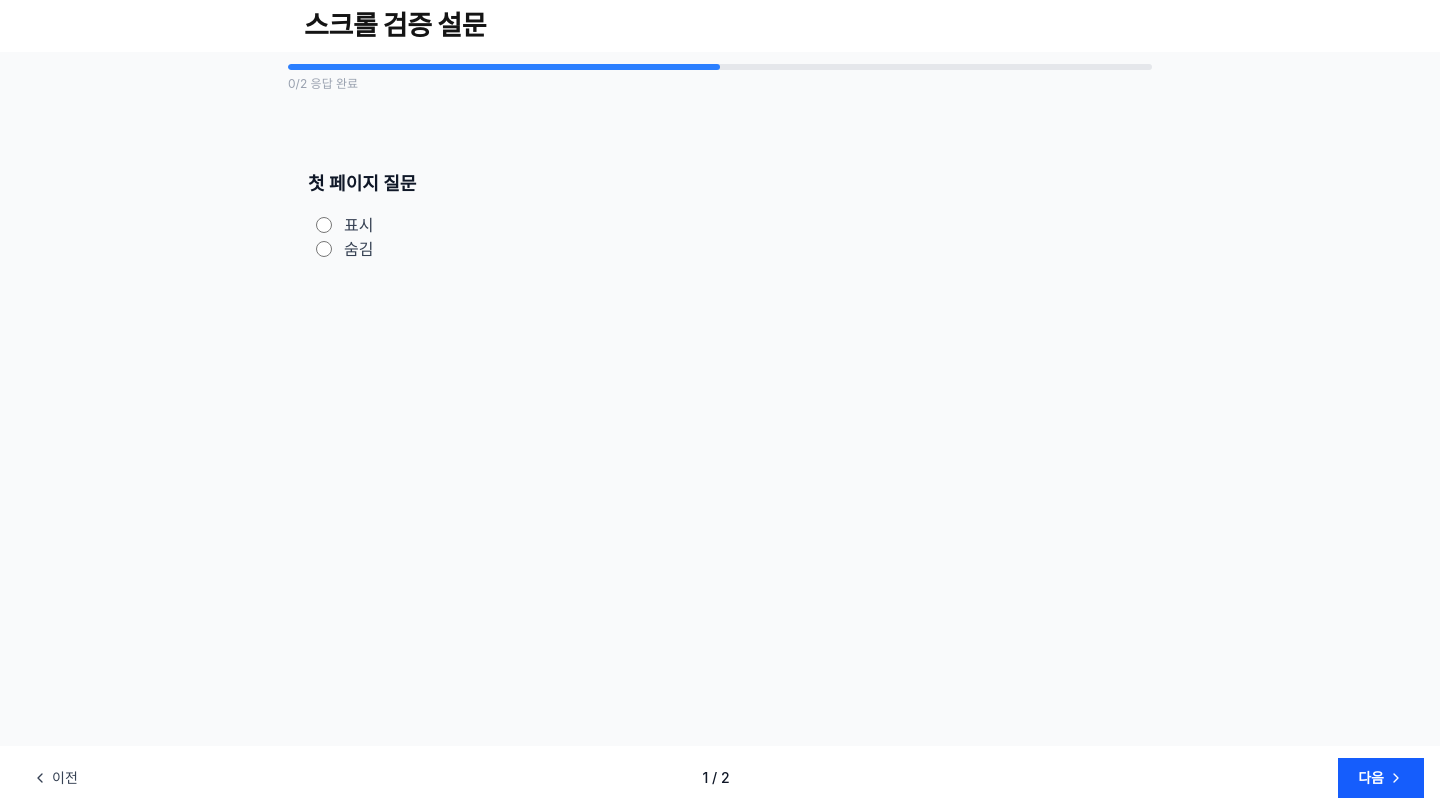
Test case: 스텝 이동 시 맨 위로 스크롤 › 조건부로 비어버린 페이지를 자동 스킵할 때도 맨 위로 올린다
Click the radio button labelled "숨김" at coordinates (324, 249), box x1=316 y1=241 x2=332 y2=257
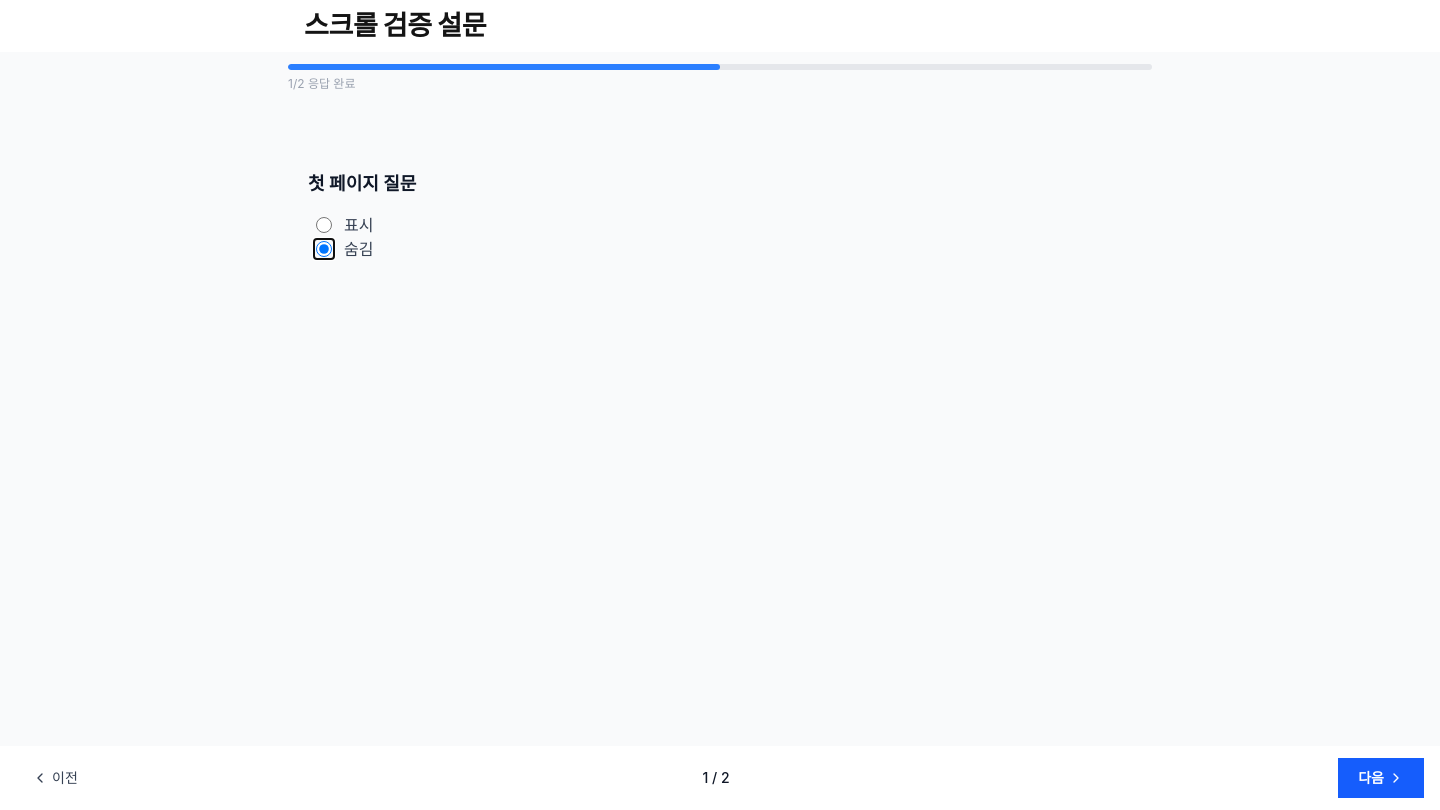
Click the button "다음" at coordinates (1381, 778), box x1=1338 y1=758 x2=1424 y2=798
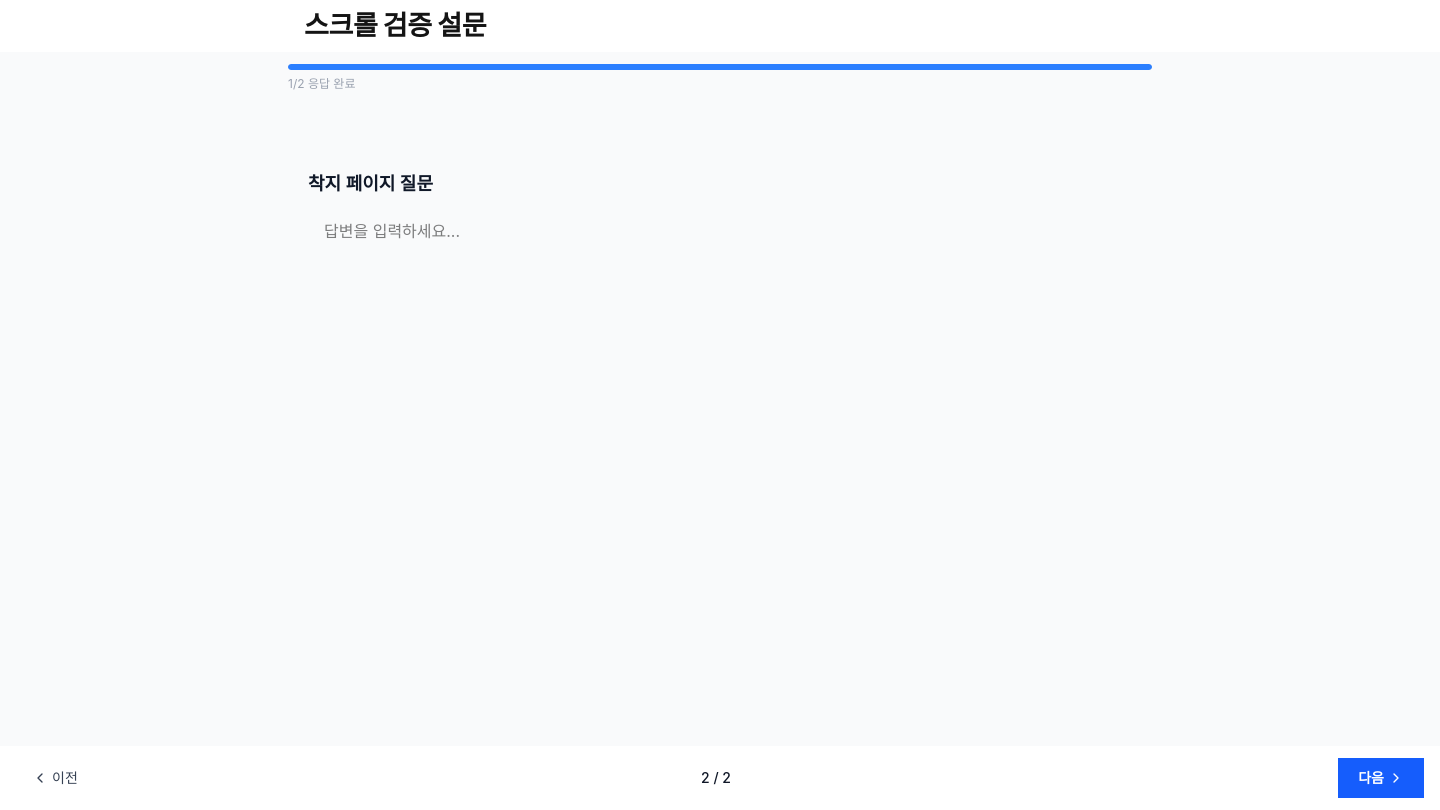
Result: the text "착지 페이지 질문" is shown at x1=304 y1=172 x2=437 y2=197
